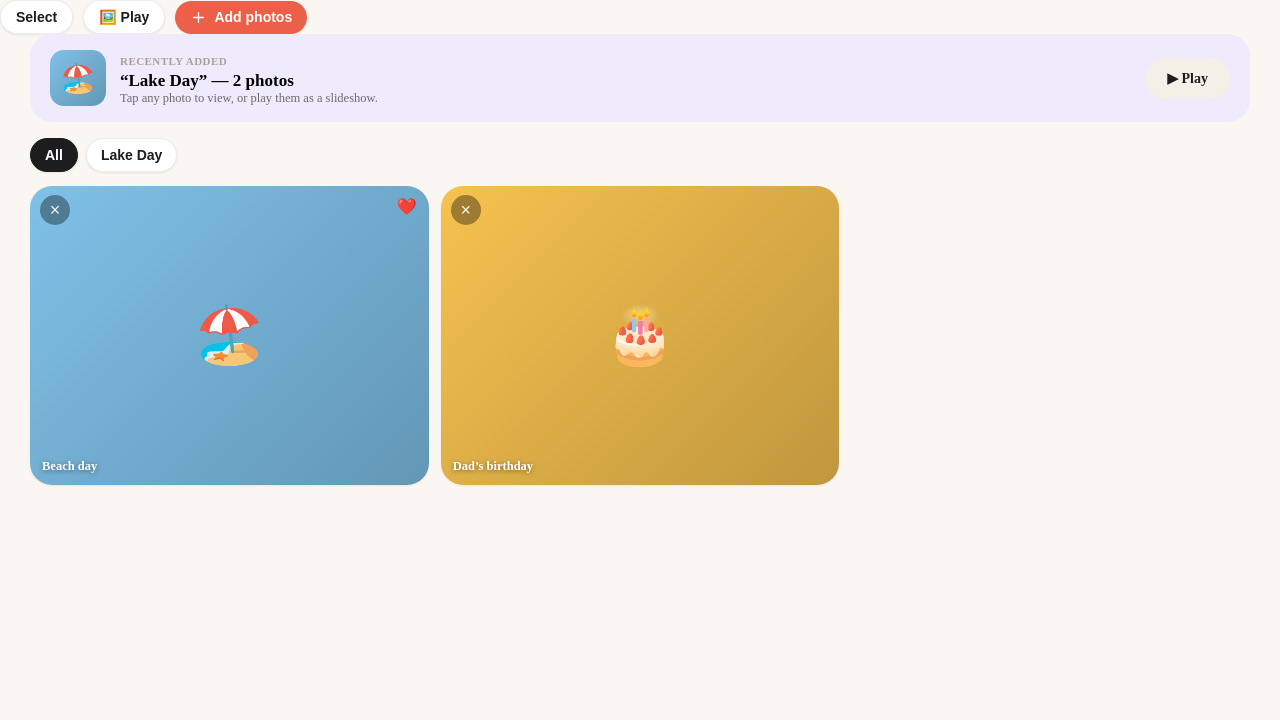
Test case: Photos home (family wall) › cancels a delete without removing the photo
Step 1. Click the button named "Delete Beach day" → click(55, 210), box [40,195,70,225]
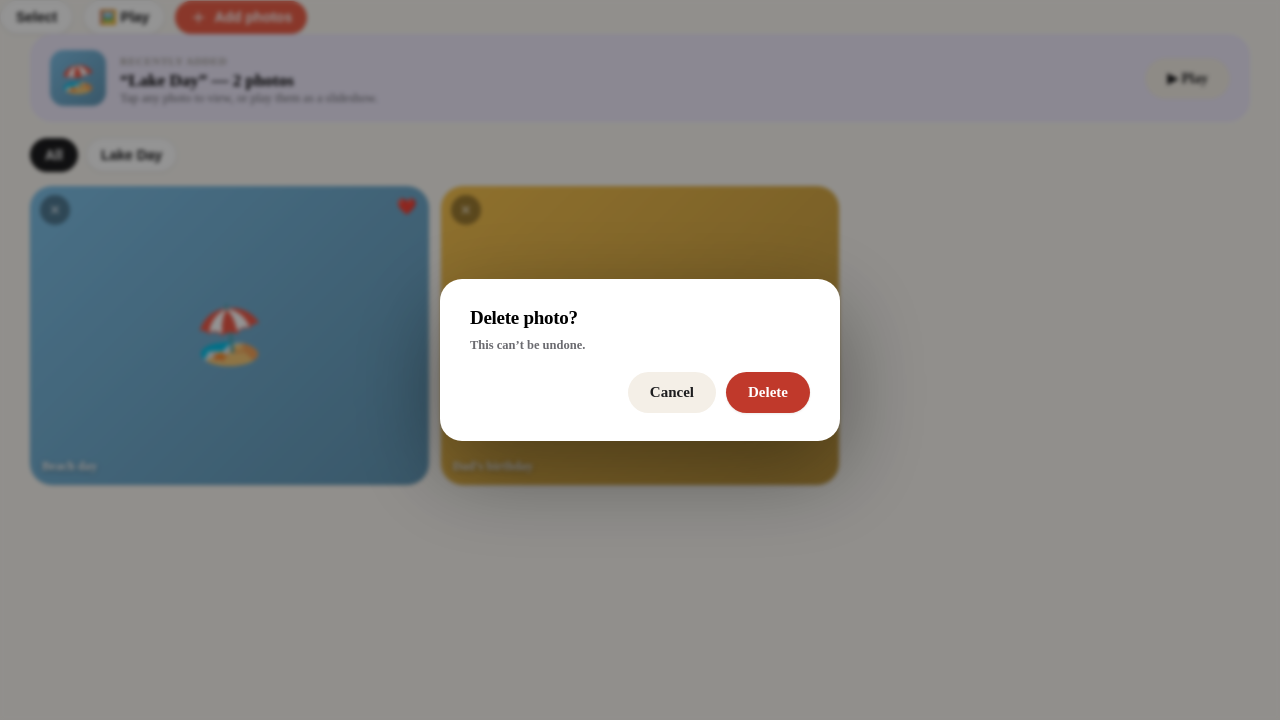
Step 2. Click the button "Cancel" → click(672, 393), box [628,372,716,413]
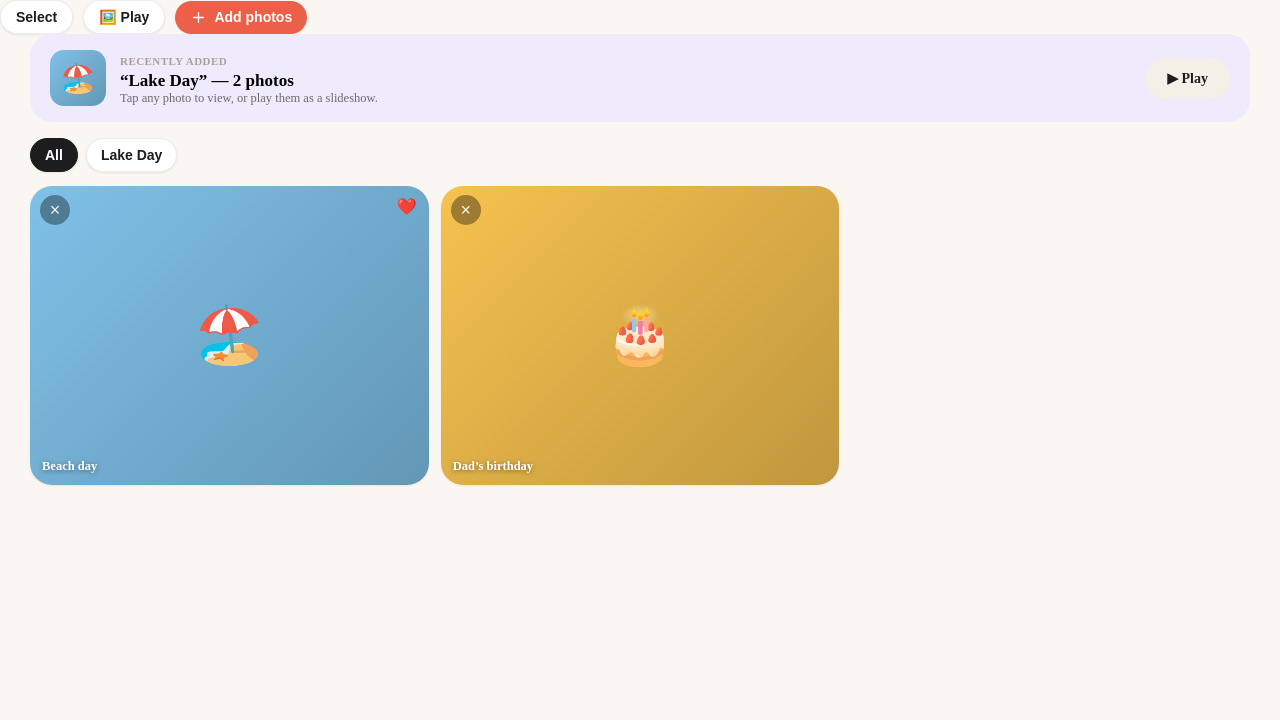
expect the text "Delete photo?" is gone: met
